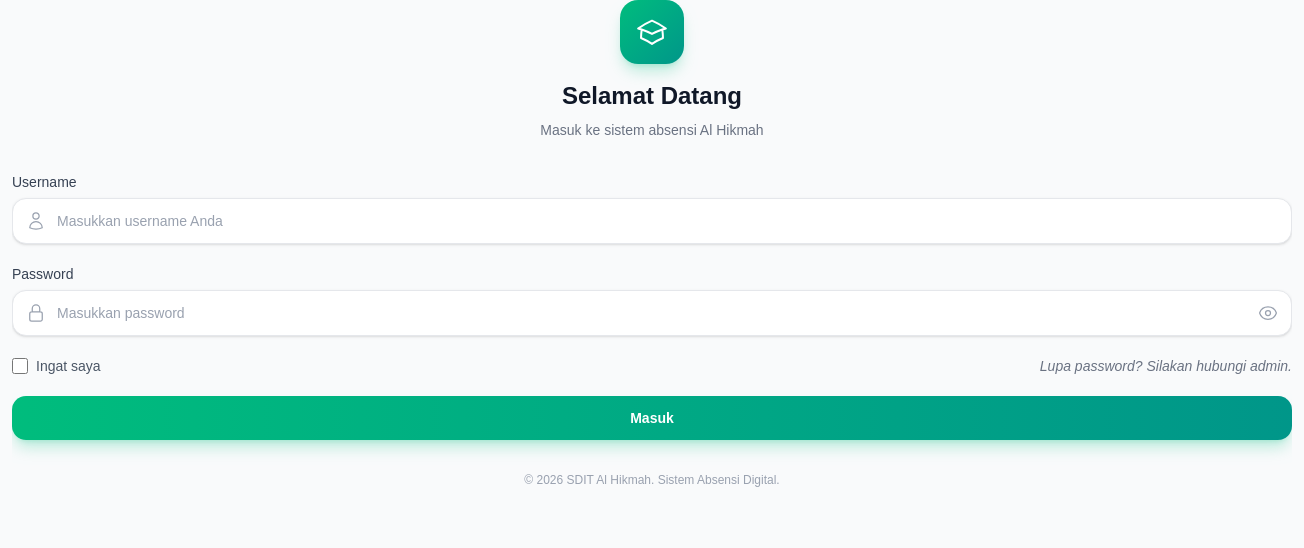
it: LoginForm › shows validation errors when submitting empty form
Click the button "Masuk" at (652, 418), box [12, 396, 1292, 440]
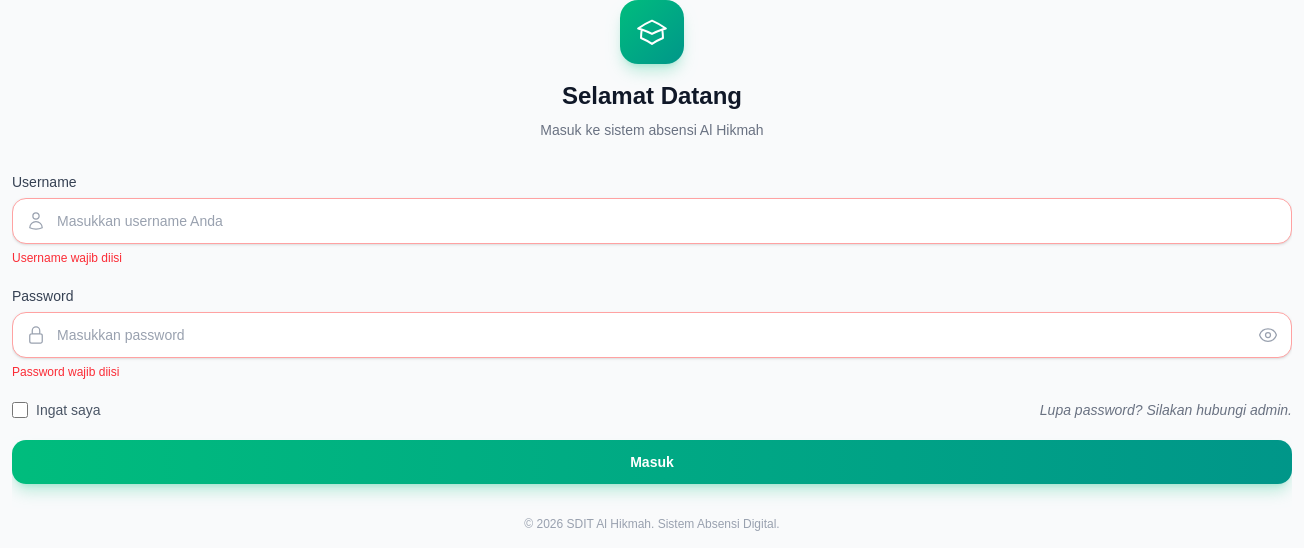
Expected: the text "Username wajib diisi" is shown, [12, 251, 122, 265]
Expected: the text "Password wajib diisi" is shown, [12, 365, 119, 379]
